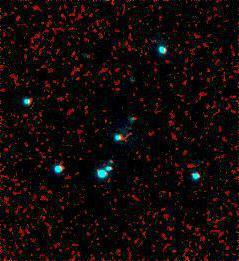star: (99, 139, 129, 169)
